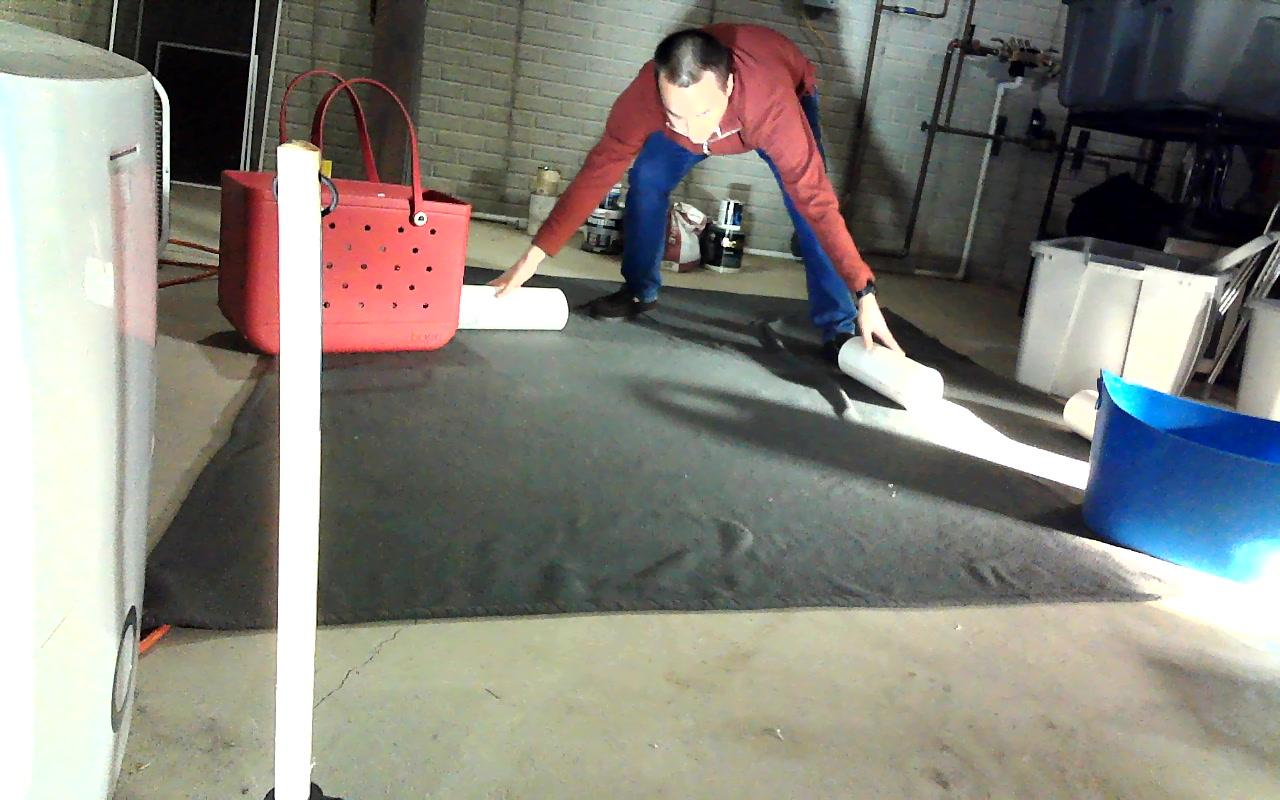coral: (838, 338, 941, 411), (458, 284, 567, 330)
